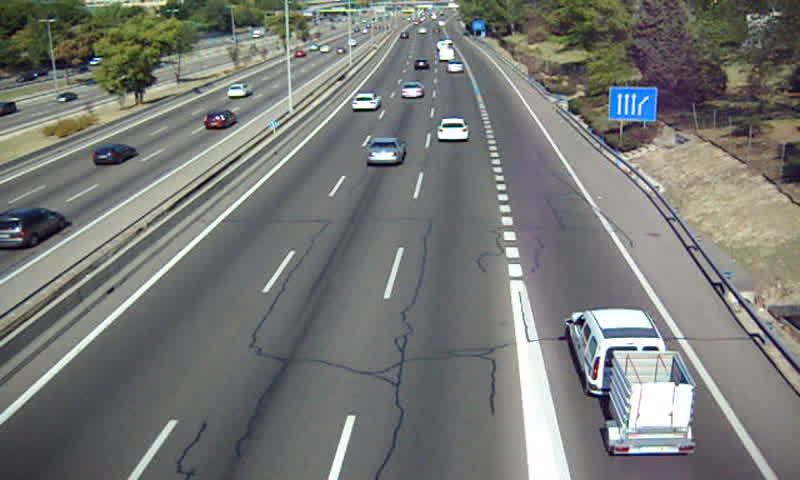car: (366, 137, 405, 167), (437, 118, 469, 142), (351, 93, 380, 113), (399, 82, 425, 100), (447, 60, 466, 74), (412, 58, 430, 72)
van: (566, 309, 665, 397)
